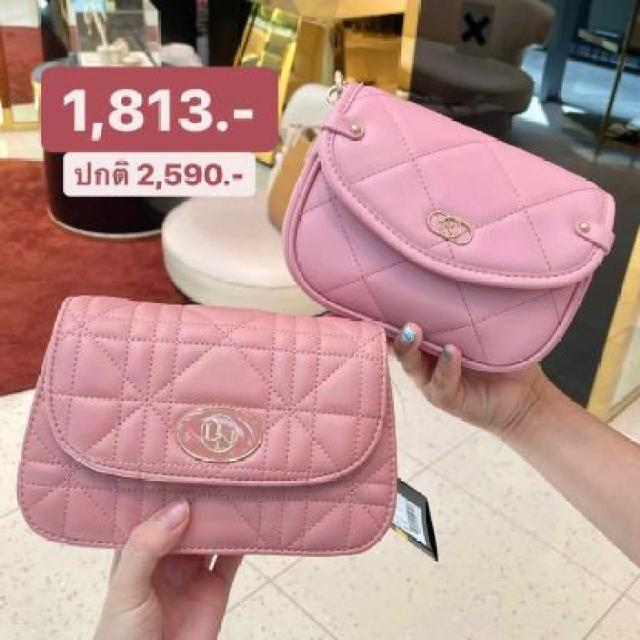Bag: (0, 286, 408, 571), (283, 74, 619, 406)
